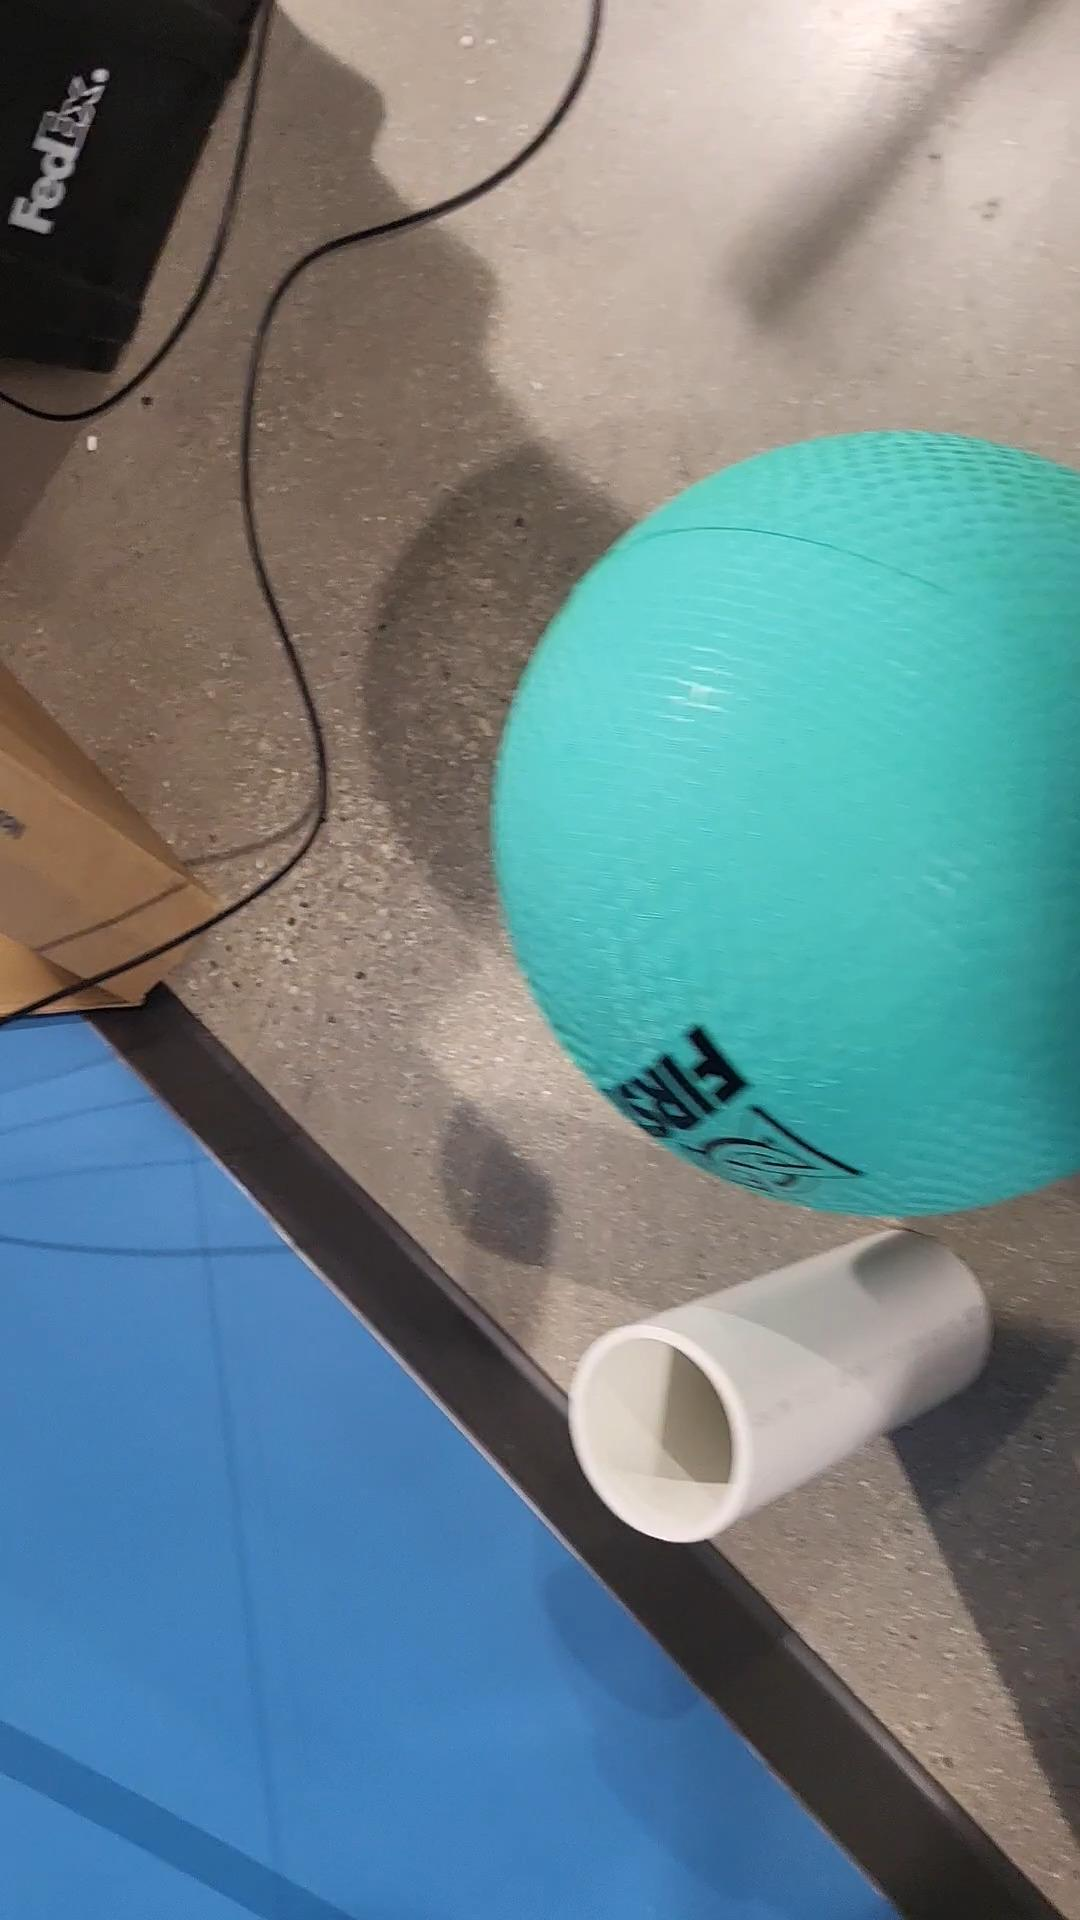algae: (493, 423, 1080, 1224)
coral: (556, 1211, 993, 1556)
